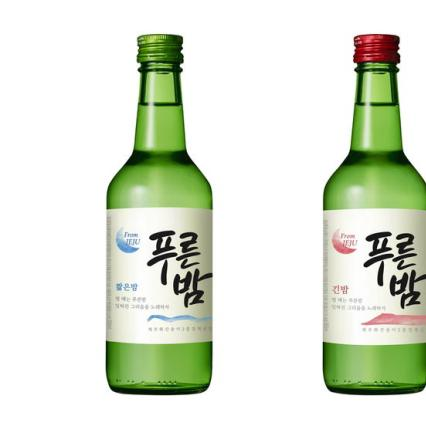soju: (103, 32, 216, 395), (318, 30, 426, 397)
